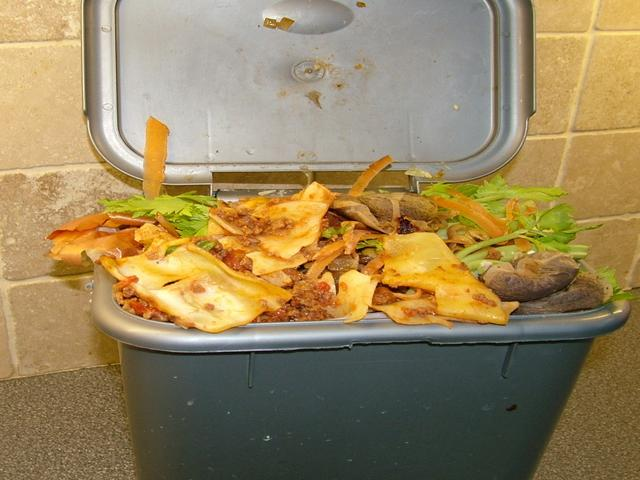garbage: (118, 204, 513, 312)
